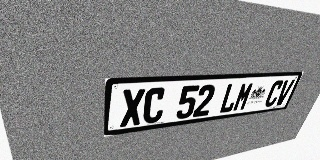2: (193, 84, 217, 117)
5: (175, 85, 200, 120)
C: (142, 87, 167, 124), (263, 80, 285, 107)
L: (218, 83, 242, 114)
M: (232, 82, 255, 112)
V: (274, 79, 295, 106)
X: (120, 88, 145, 127)
